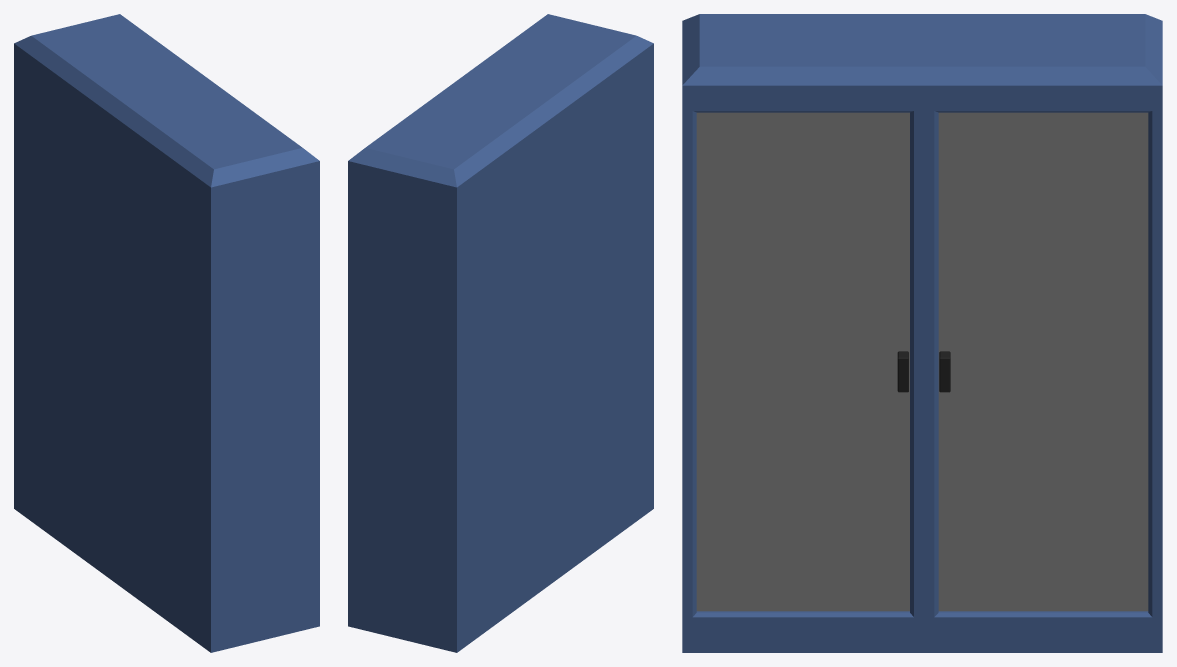
File: Obj_LabCloset.fbx
The picture shows the model from 3 angles, left to right: view 1: azimuth 30°, elevation 25°; view 2: azimuth 150°, elevation 25°; view 3: azimuth 270°, elevation 25°; orthographic projection. The views are drawn at different scales.
Parts seen in each view (by area): view 1: Obj_LabCloset; view 2: Obj_LabCloset; view 3: Obj_LabCloset.
Boxes of the visible parts, left/top/right/bottom form: Obj_LabCloset: left=14, top=14, right=319, bottom=652; Obj_LabCloset: left=348, top=14, right=653, bottom=652; Obj_LabCloset: left=682, top=14, right=1162, bottom=652.
Size of the model in its own units: 1.01 by 4 by 3.
